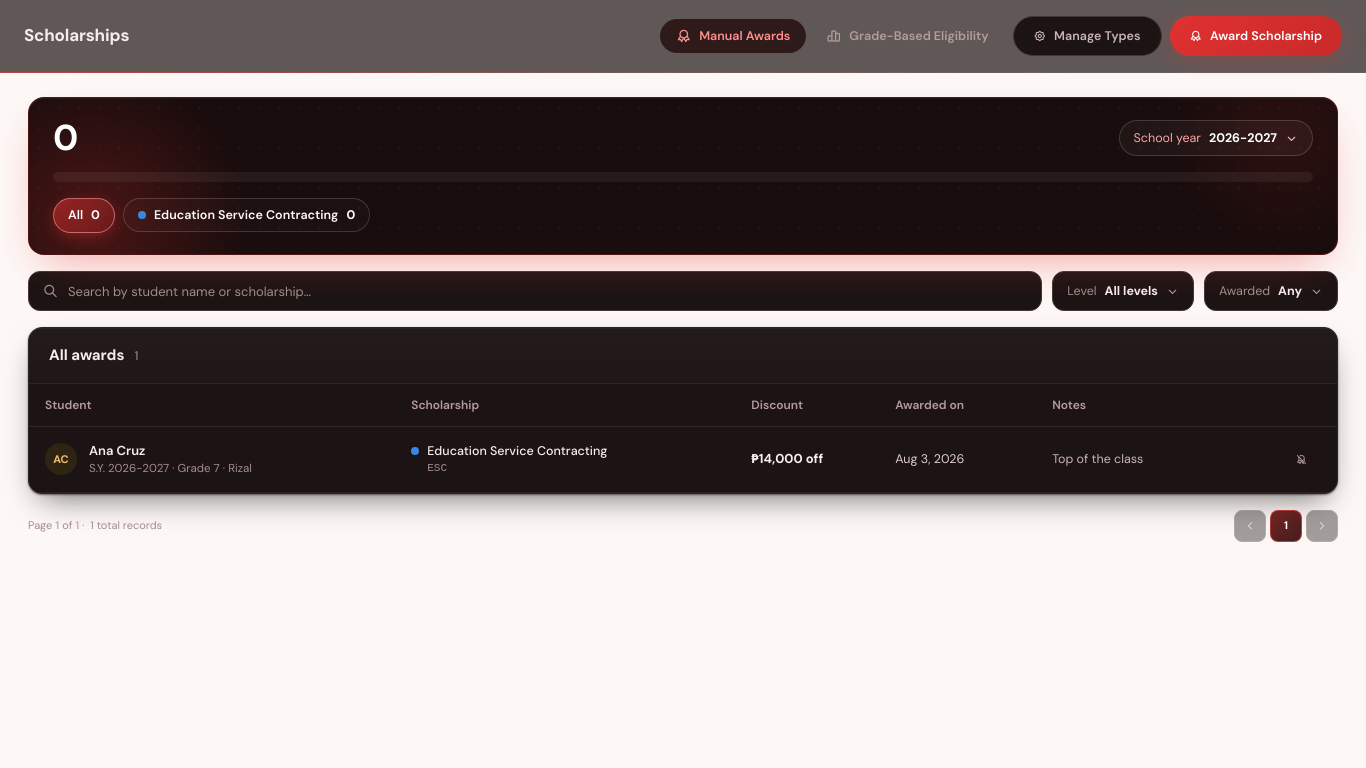
Scenario: Scholarships — dark mode › opens the award window: the search, its matches, the chosen learner and an error
The width and height of the screenshot is (1366, 768).
Expected: the text "Ana Cruz" is shown, [89,442,145,459]
Click the button "Award Scholarship".
click(1256, 36)  # box [1170,16,1342,56]
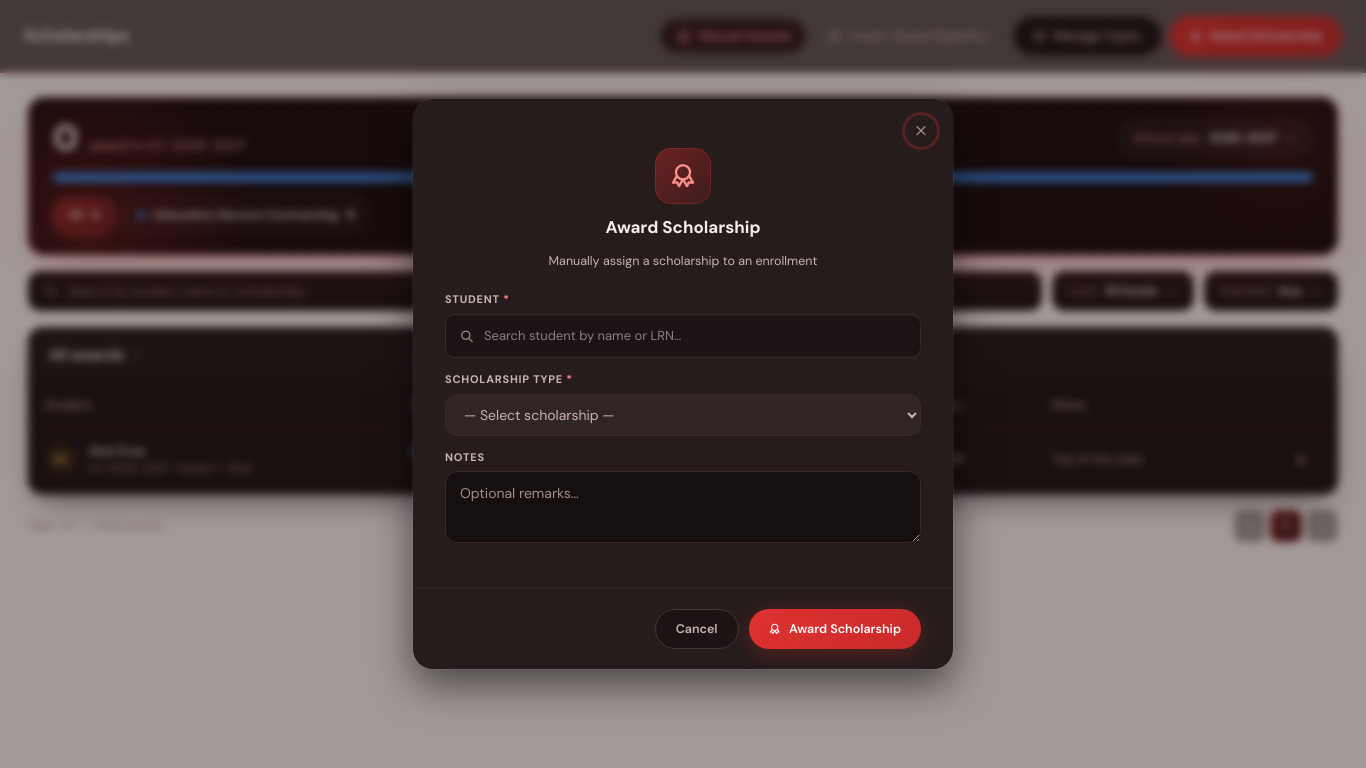
Type "Uy" into the field with placeholder "Search student by name or LRN…".
click(695, 336); type("Uy")  # box [484,326,906,345]
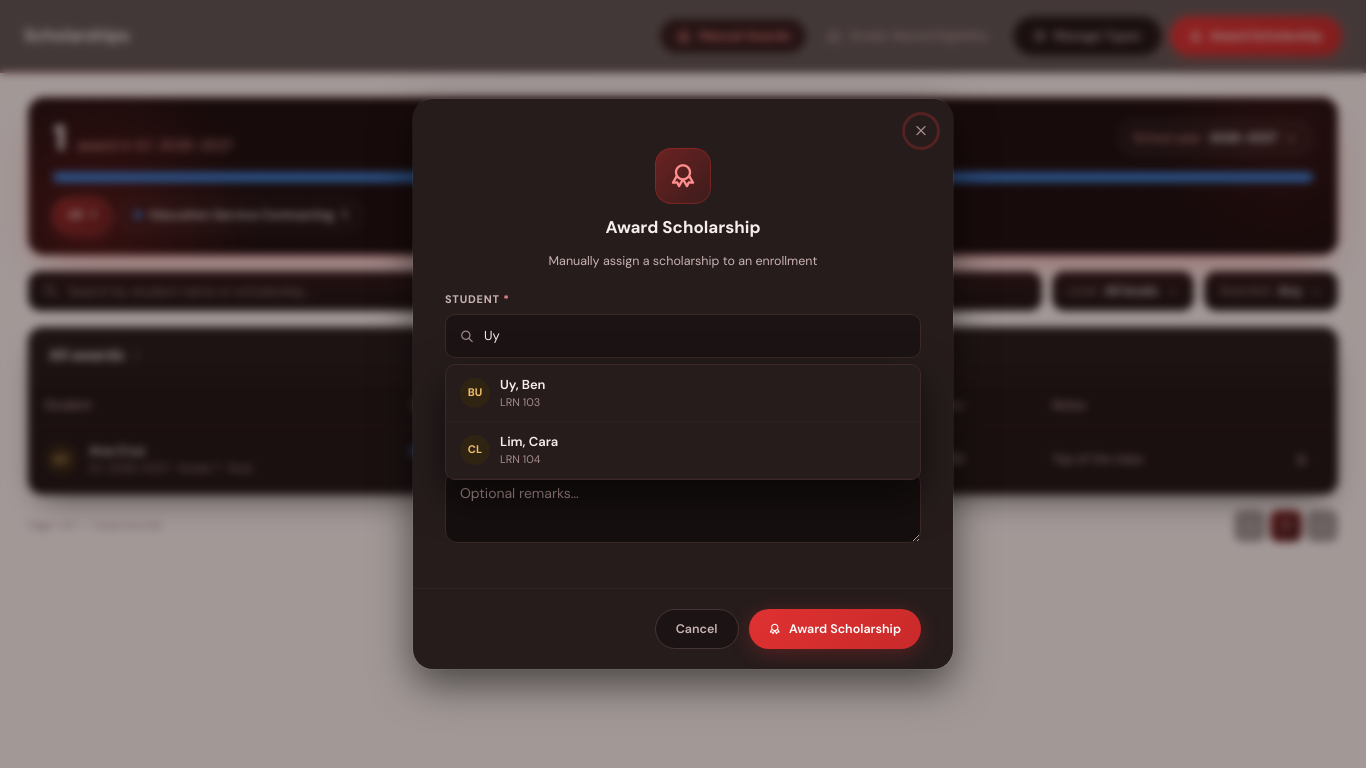
Click the text "Uy, Ben".
click(523, 384)  # box [500,375,546,394]
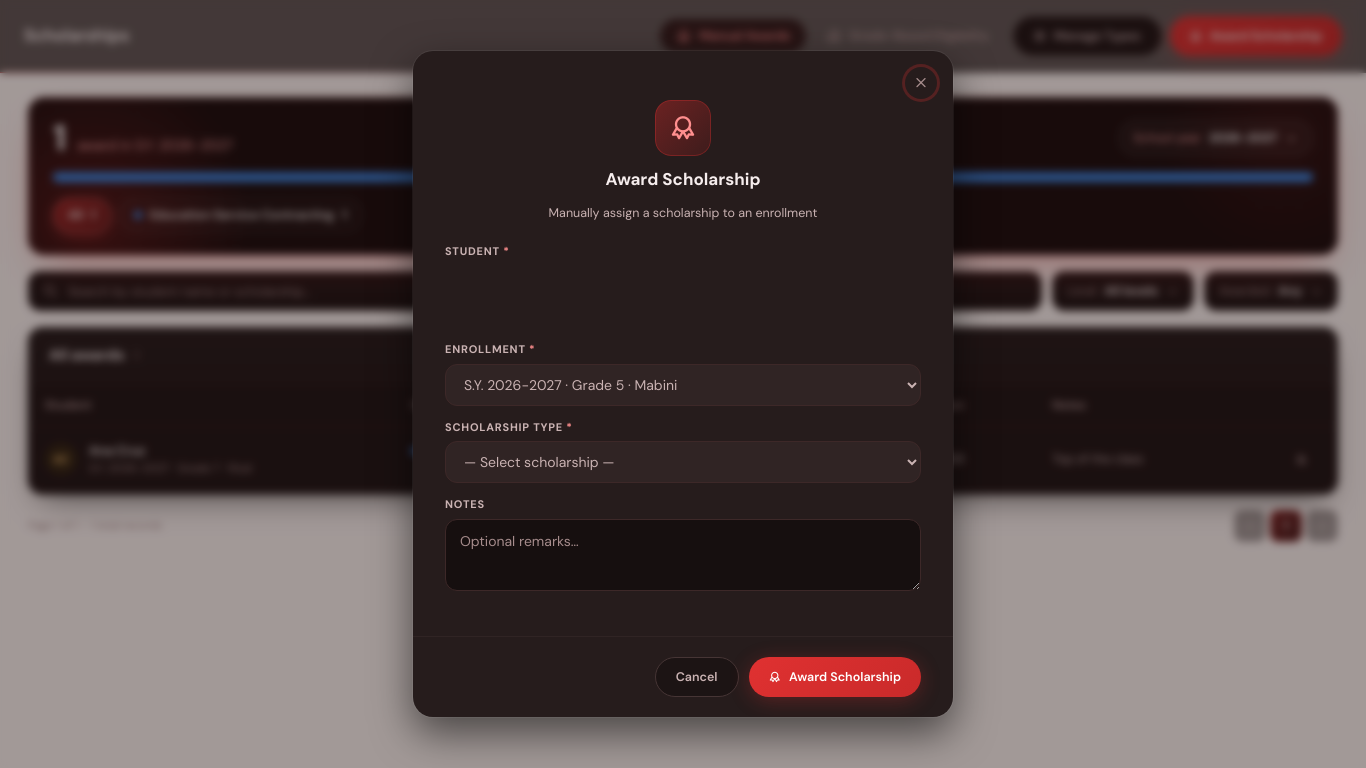
Click the button "Award Scholarship".
click(835, 677)  # box [748,657,921,697]
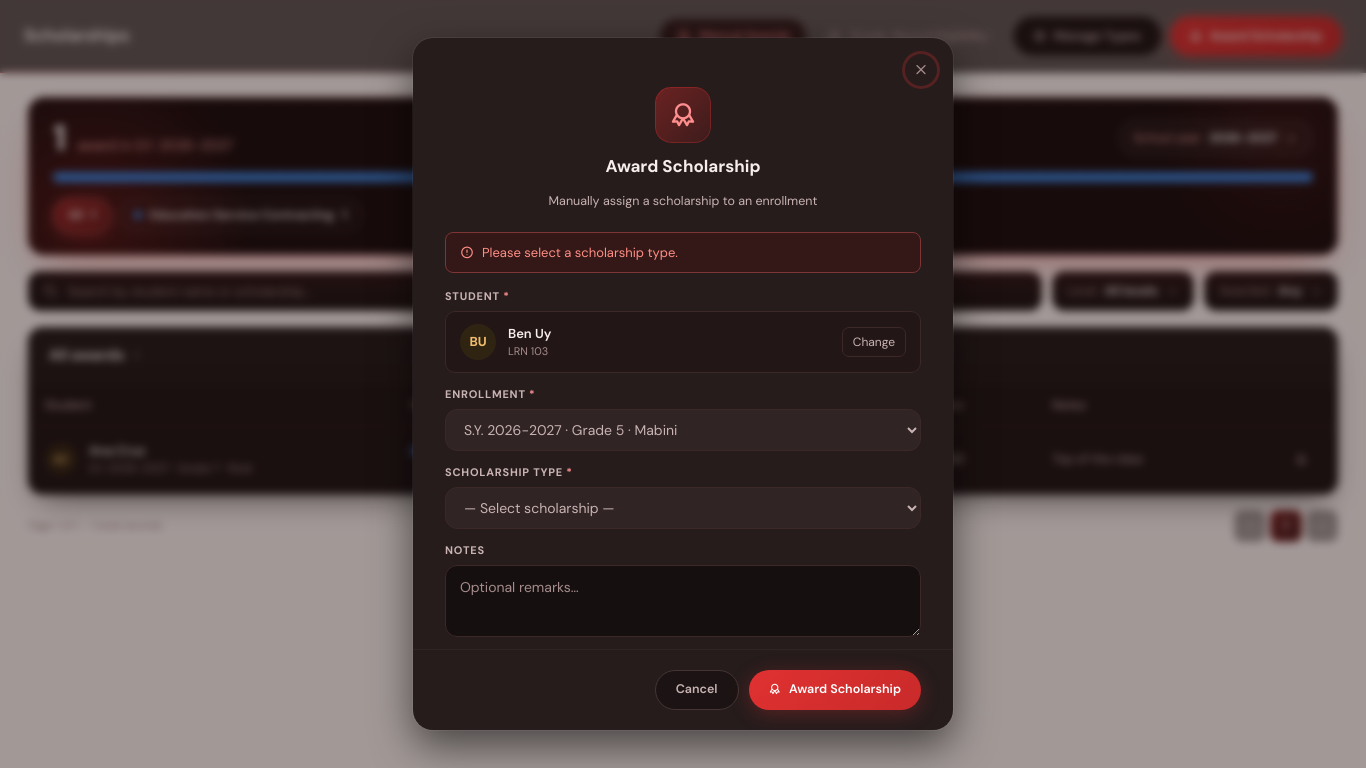
Result: the text "Please select a scholarship type." is shown at [445,232,921,273]
